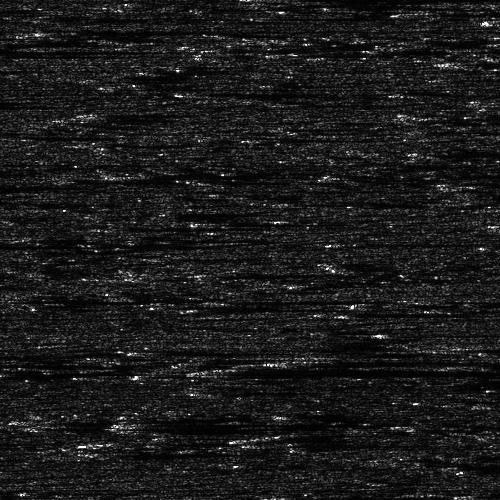object: (37, 418, 194, 431), (69, 109, 162, 118), (0, 415, 54, 426), (197, 370, 250, 379), (393, 9, 456, 14), (441, 344, 472, 349), (485, 16, 500, 25), (0, 357, 11, 368), (479, 222, 500, 227), (463, 492, 494, 495), (491, 243, 500, 248)
shadow: (115, 418, 326, 431), (223, 370, 500, 379), (0, 349, 202, 360), (0, 357, 121, 368), (0, 41, 69, 54), (18, 415, 68, 426), (115, 109, 169, 118), (425, 9, 500, 14), (456, 344, 500, 349), (479, 492, 500, 495)
